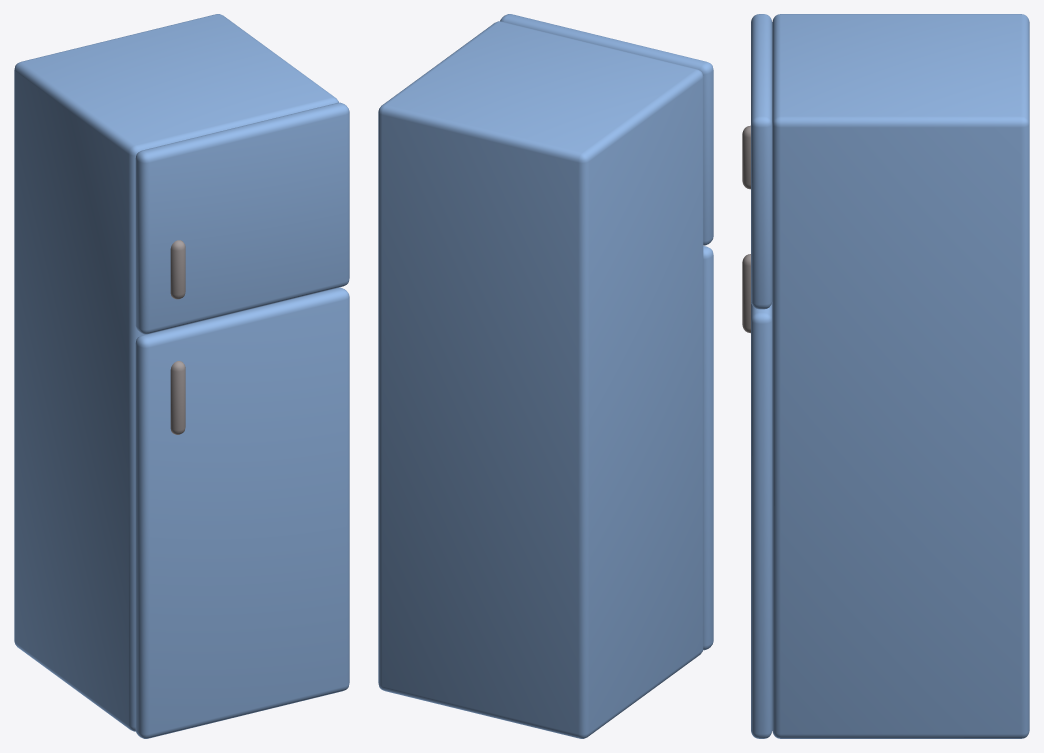
The model's file is holodilnik_60x60x160_2.glb.
3 renders of one model, left to right at view 1: azimuth 30°, elevation 25°; view 2: azimuth 150°, elevation 25°; view 3: azimuth 270°, elevation 25°, orthographic. The views are drawn at different scales.
Visible parts, largest first — view 1: Cube.065; view 2: Cube.065; view 3: Cube.065.
Boxes of the visible parts, x1,y1,x2,y2 form: Cube.065: (14, 14, 349, 738); Cube.065: (378, 14, 713, 738); Cube.065: (742, 14, 1029, 738).
Size of the model in its own units: 0.6 by 1.6 by 0.67.
